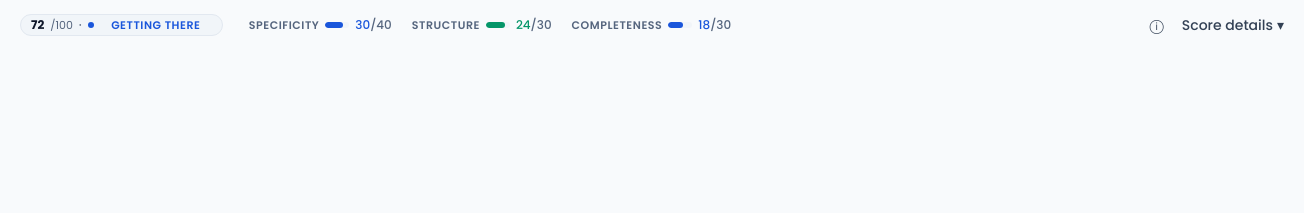
Test case: collapsible score widget (#953) › expands when 'Score details ▾' is clicked and collapses when 'Collapse ▴' is clicked
The width and height of the screenshot is (1304, 213).
What coordinates should you click on to do the following:
click the button "Score details ▾"
I would click on:
 (1233, 25)
Its box is x1=1174 y1=13 x2=1292 y2=37.
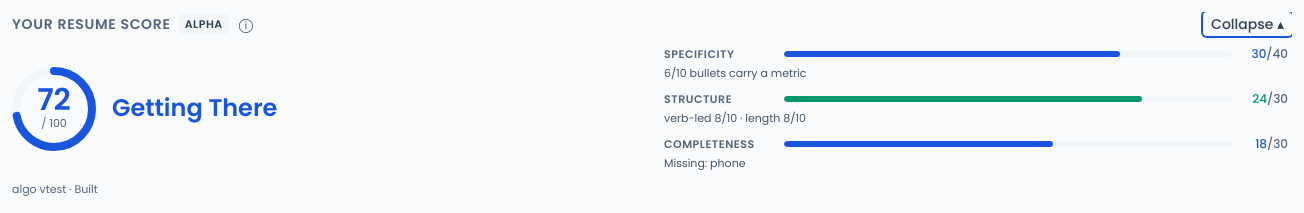
Expected: the text "Collapse ▴" is shown
Expected: the button "Collapse ▴" is shown
What coordinates should you click on to do the following:
click the button "Collapse ▴"
I would click on:
 (1248, 24)
Its box is x1=1203 y1=12 x2=1292 y2=36.
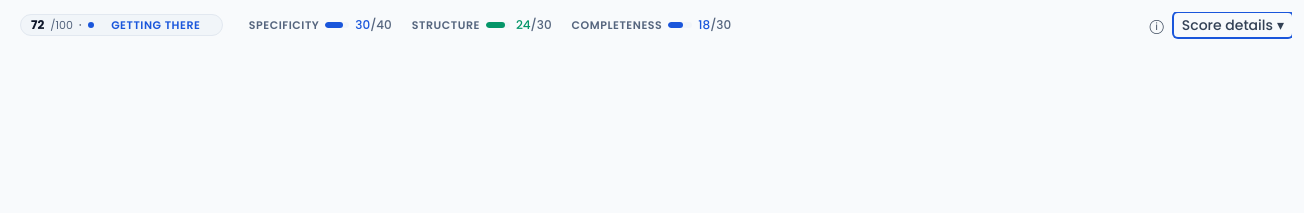
Expected: the text "Score details ▾" is shown, x1=1174 y1=13 x2=1292 y2=37
